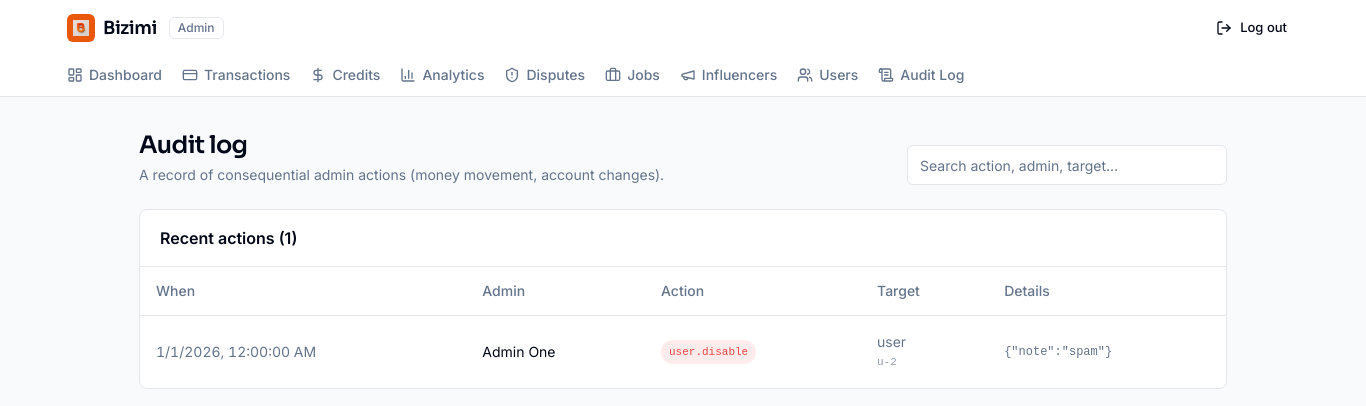
Test case: AdminAuditLog › filters by search term across action, admin, and target
The image size is (1366, 406).
Type "nonexistent" into the field with placeholder "Search action, admin, target…". click: (1067, 165)
box: [907,145,1227,185]
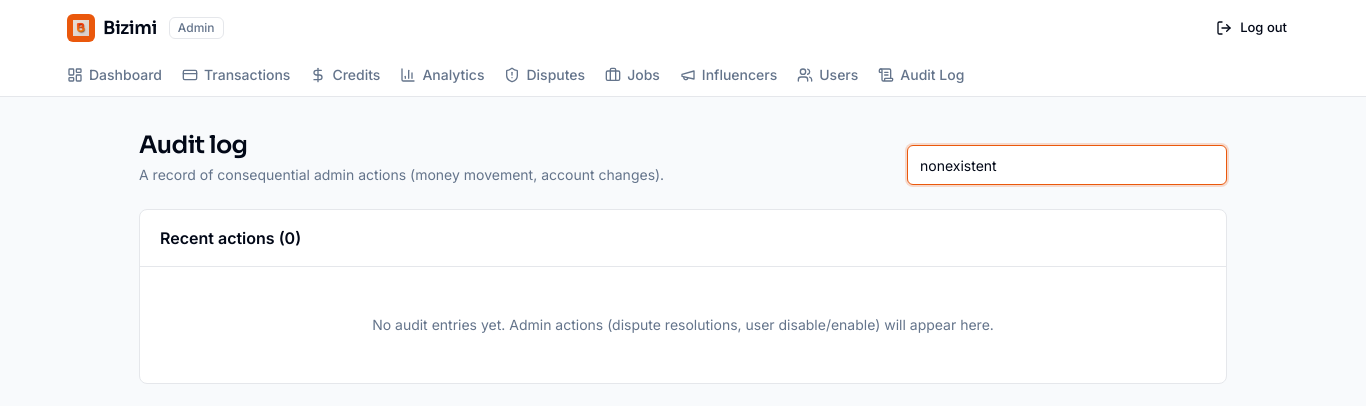
Now the text "Admin One" is gone
